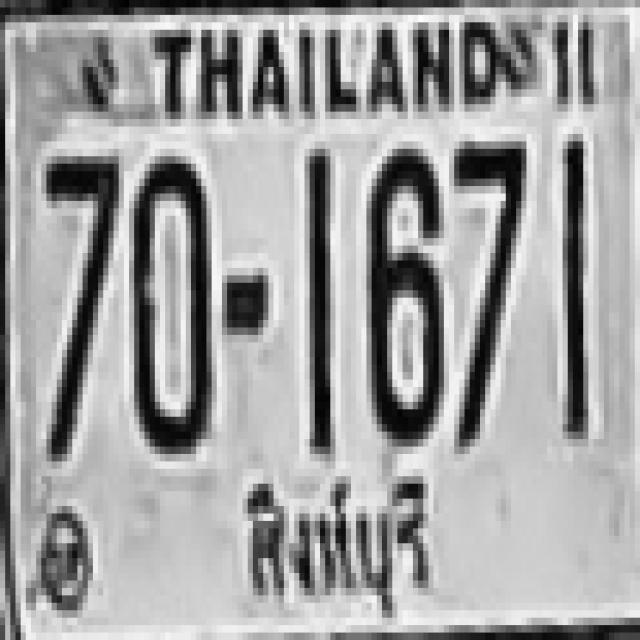0: (129, 149, 206, 446)
1: (304, 145, 330, 435), (560, 142, 586, 432), (560, 138, 586, 413), (305, 149, 325, 424)
6: (364, 141, 441, 439)
7: (41, 153, 119, 450), (449, 130, 521, 443), (41, 149, 119, 379), (41, 149, 119, 350)
SingBuri: (211, 458, 454, 630)
